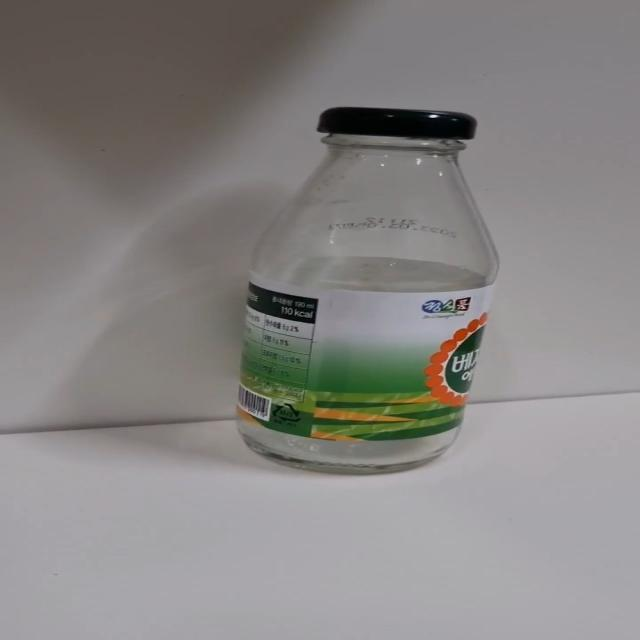Glass: (235, 108, 496, 474)
